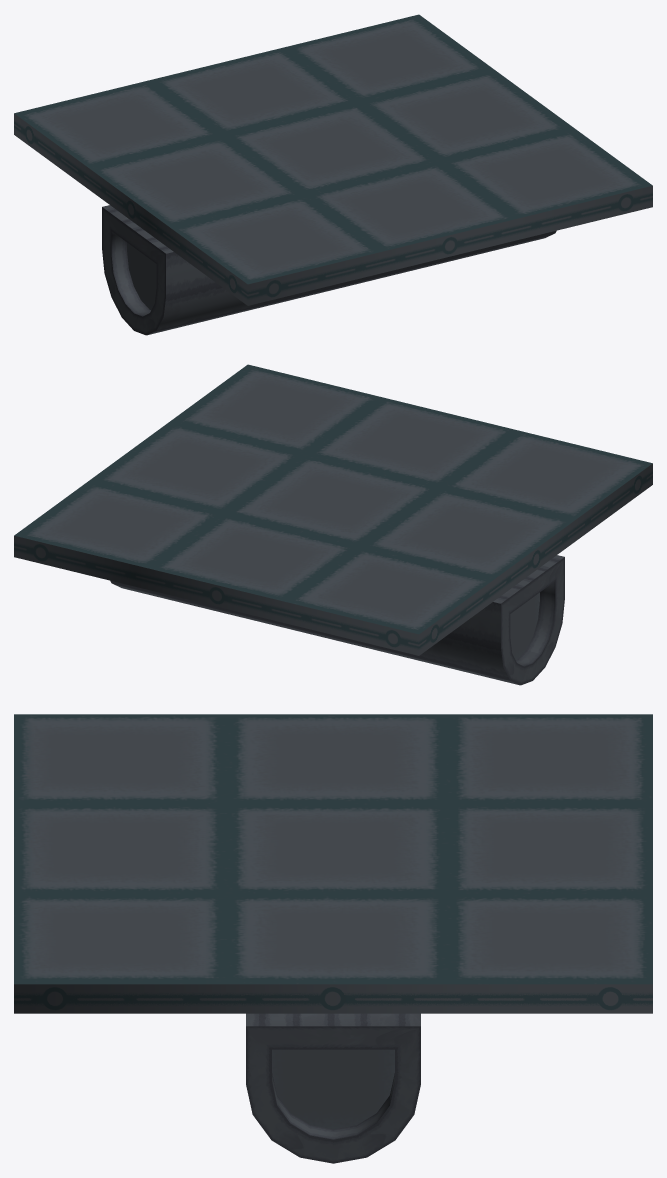
File: Sunken Tomb Scaffold Top.fbx
The picture shows the model from 3 angles, top to bottom: view 1: azimuth 30°, elevation 25°; view 2: azimuth 150°, elevation 25°; view 3: azimuth 270°, elevation 25°; orthographic projection. The views are drawn at different scales.
Parts seen in each view (by area): view 1: Scaffold Top; view 2: Scaffold Top; view 3: Scaffold Top.
Part boxes in pixels (x1,y1,x2,y2): Scaffold Top: (14,14,652,335); Scaffold Top: (14,364,652,685); Scaffold Top: (14,714,652,1163).
Size of the model in its own units: 730 by 229 by 730.
